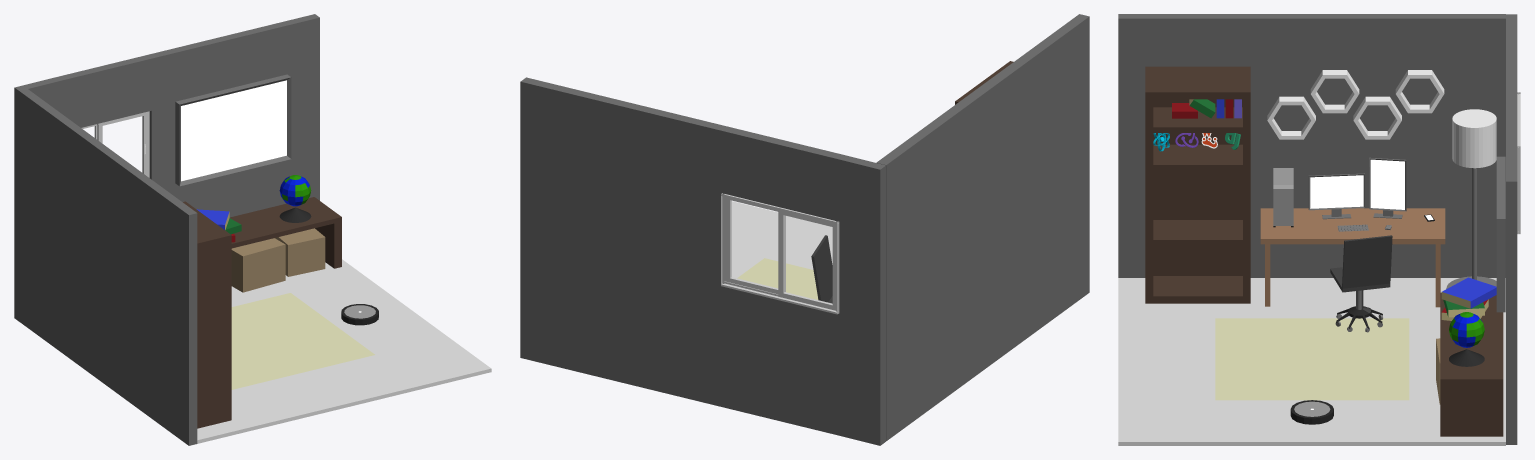
The model's file is portfolioOptimized2.glb.
3 views of the same model, side by side, from view 1: azimuth 30°, elevation 25°; view 2: azimuth 150°, elevation 25°; view 3: azimuth 270°, elevation 25° (orthographic). The views are drawn at different scales.
Visible parts, largest first — view 1: wall, windowWall, floor, tv, rug, shelf, displayBenchBoxes, displayBench, globe, roomba, textbooks, Window.R; view 2: windowWall, wall, floor, WindowFrame, rug, Window.L, chairTop, Window.R; view 3: wall, floor, shelf, rug, displayBench, tableTop, windowWall, chairTop, lamp, hMonitor, vMonitor, textbooks (+10 smaller).
Boxes of the visible parts, x1,y1,x2,y2 form: wall: (19, 89, 197, 445); windowWall: (14, 14, 319, 321); floor: (197, 259, 491, 443); tv: (175, 74, 291, 186); rug: (231, 293, 374, 389); shelf: (183, 201, 231, 428); displayBenchBoxes: (231, 228, 325, 292); displayBench: (229, 197, 341, 268); globe: (279, 175, 311, 222); roomba: (341, 304, 378, 325); textbooks: (197, 209, 241, 242); Window.R: (97, 112, 146, 175); windowWall: (520, 77, 885, 445); wall: (876, 14, 1089, 441); floor: (731, 201, 832, 278); WindowFrame: (721, 193, 839, 314); rug: (737, 258, 818, 299); Window.L: (778, 210, 835, 310); chairTop: (811, 235, 832, 303); Window.R: (726, 197, 785, 294); wall: (1118, 14, 1505, 277); floor: (1118, 278, 1505, 445); shelf: (1145, 66, 1250, 303); rug: (1215, 318, 1409, 400); displayBench: (1440, 292, 1503, 436); tableTop: (1260, 208, 1445, 244); windowWall: (1506, 14, 1517, 444); chairTop: (1330, 235, 1392, 328); lamp: (1446, 109, 1496, 288); hMonitor: (1308, 173, 1364, 219); vMonitor: (1369, 157, 1406, 218); textbooks: (1441, 277, 1496, 320).
Size of the model in its own units: 4.12 by 3 by 4.15.
